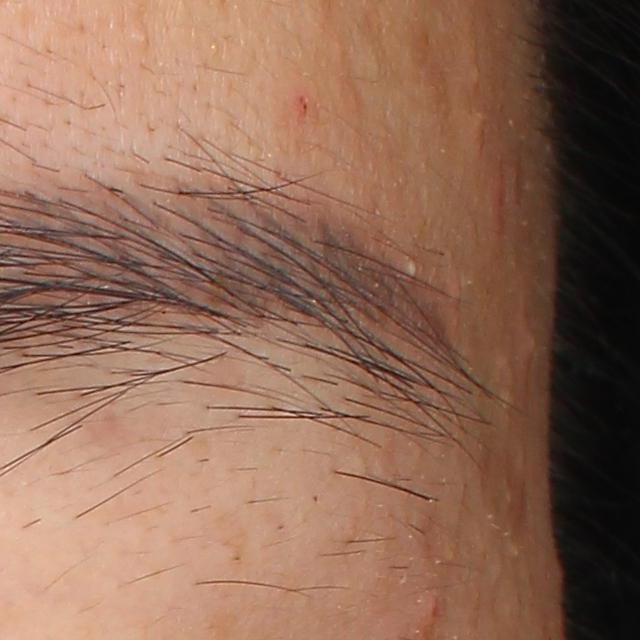pustule: (401, 248, 428, 283)
